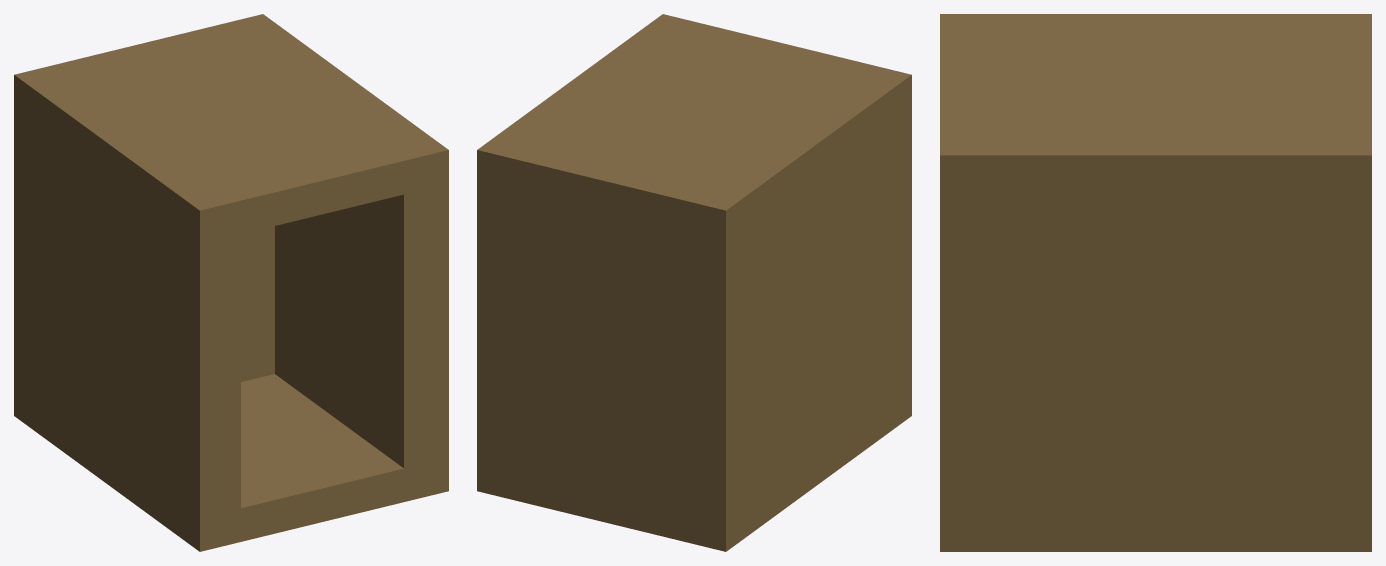
Rendered from Itr_Desk_Cabinet_Body_01.FBX.
3 views of the same model, side by side, from view 1: azimuth 30°, elevation 25°; view 2: azimuth 150°, elevation 25°; view 3: azimuth 270°, elevation 25° (orthographic). The views are drawn at different scales.
Visible parts, largest first — view 1: Itr_Desk_Cabinet_Body_01; view 2: Itr_Desk_Cabinet_Body_01; view 3: Itr_Desk_Cabinet_Body_01.
Part boxes in pixels (bbox=[...]): Itr_Desk_Cabinet_Body_01: bbox=[14, 14, 448, 551]; Itr_Desk_Cabinet_Body_01: bbox=[477, 14, 911, 551]; Itr_Desk_Cabinet_Body_01: bbox=[940, 14, 1371, 551].
Bounding box in the file's own units: 18.22 × 23.87 × 23.55.
